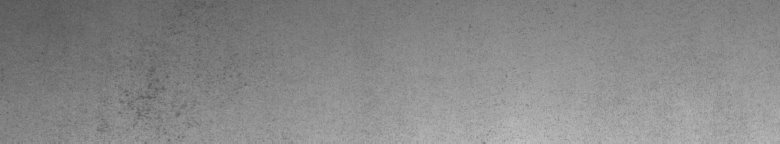ib: (95, 30, 259, 136)
